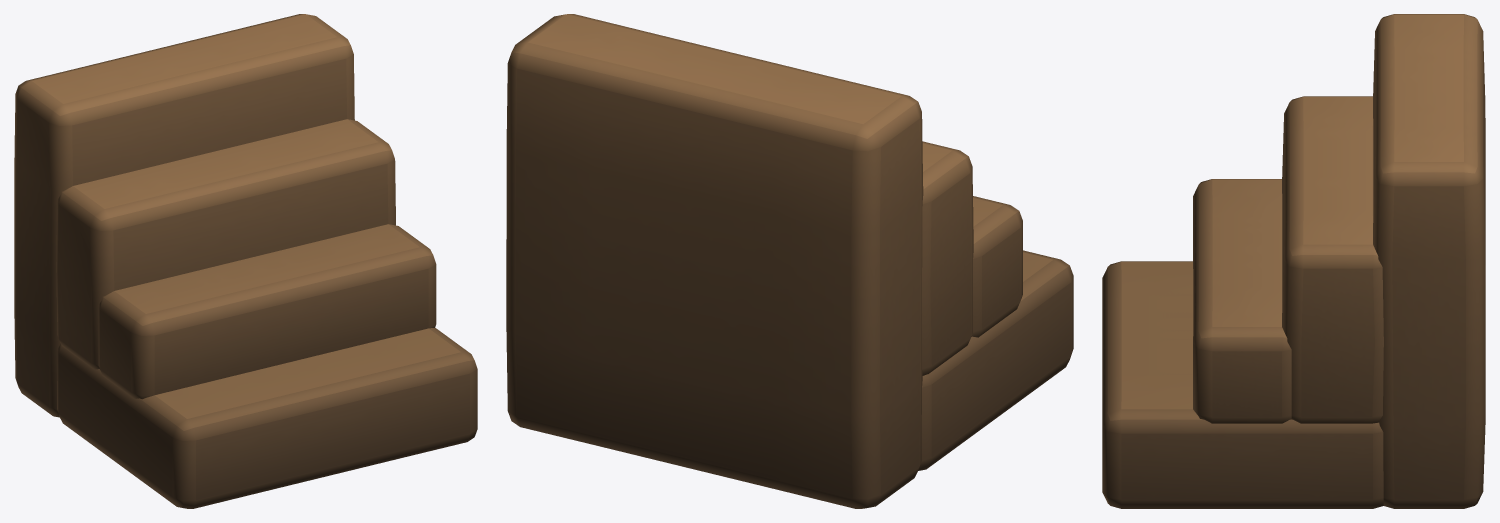
File: Sandstone_Plain_Stair_Straight.fbx
3 renders of one model, left to right at view 1: azimuth 30°, elevation 25°; view 2: azimuth 150°, elevation 25°; view 3: azimuth 270°, elevation 25°, orthographic. The views are drawn at different scales.
Parts seen in each view (by area): view 1: Sandstone_Plain_Stair_Straight_LOD0; view 2: Sandstone_Plain_Stair_Straight_LOD0; view 3: Sandstone_Plain_Stair_Straight_LOD0.
Boxes of the visible parts, x1,y1,x2,y2 form: Sandstone_Plain_Stair_Straight_LOD0: [14, 14, 477, 508]; Sandstone_Plain_Stair_Straight_LOD0: [506, 14, 1073, 508]; Sandstone_Plain_Stair_Straight_LOD0: [1102, 14, 1485, 508].
Size of what is drawn, in the model's own units: 1.06 by 1.05 by 1.05.
